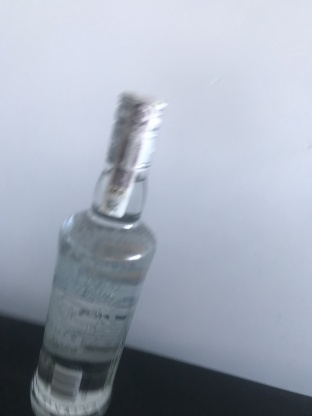nakretka: (103, 88, 170, 176)
